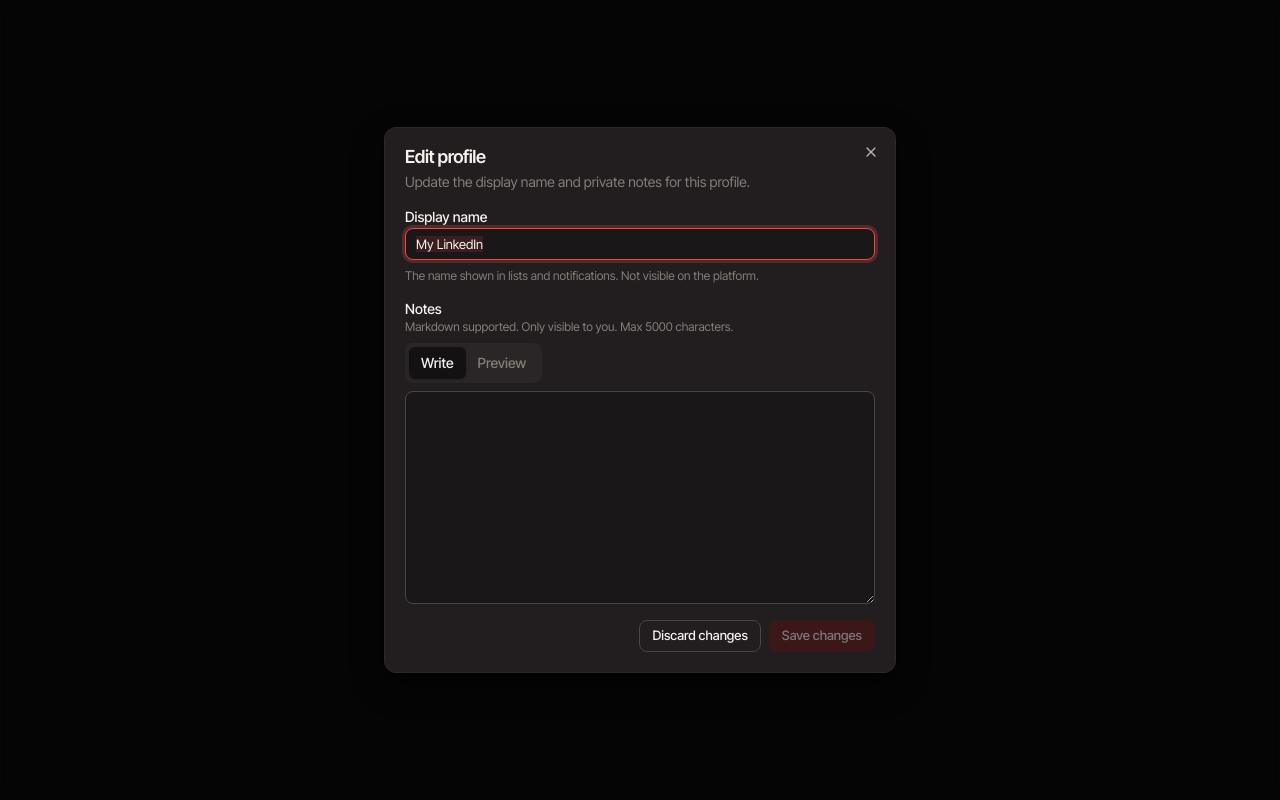
EditProfileDialog › renders empty-preview state when notes is empty
Expected: the field labelled "Display name" is shown, [405, 228, 875, 260]
Step 1. Click the tab "Preview" → [502, 363], box [466, 347, 538, 379]
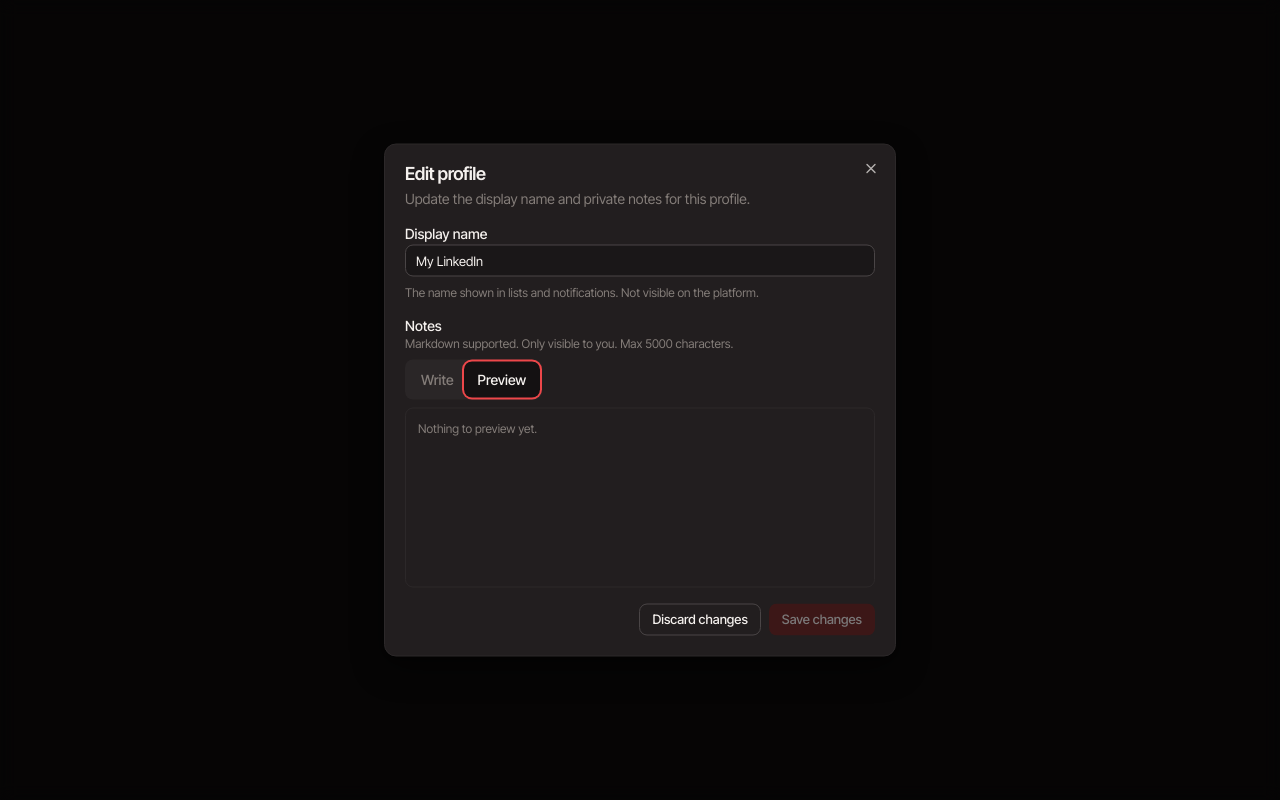
Result: the text "Nothing to preview yet." is shown at [418, 420, 537, 436]
